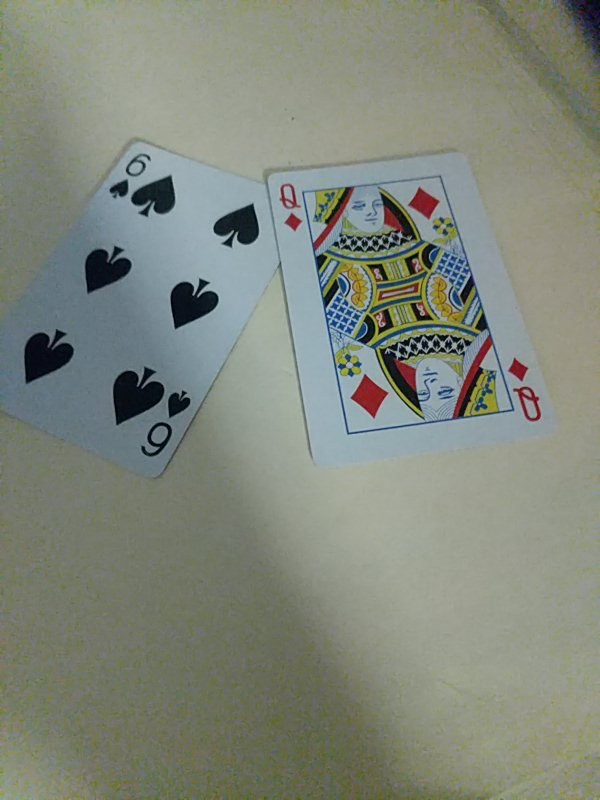Diamonds: (267, 151, 558, 469)
Spades: (1, 138, 297, 479)
